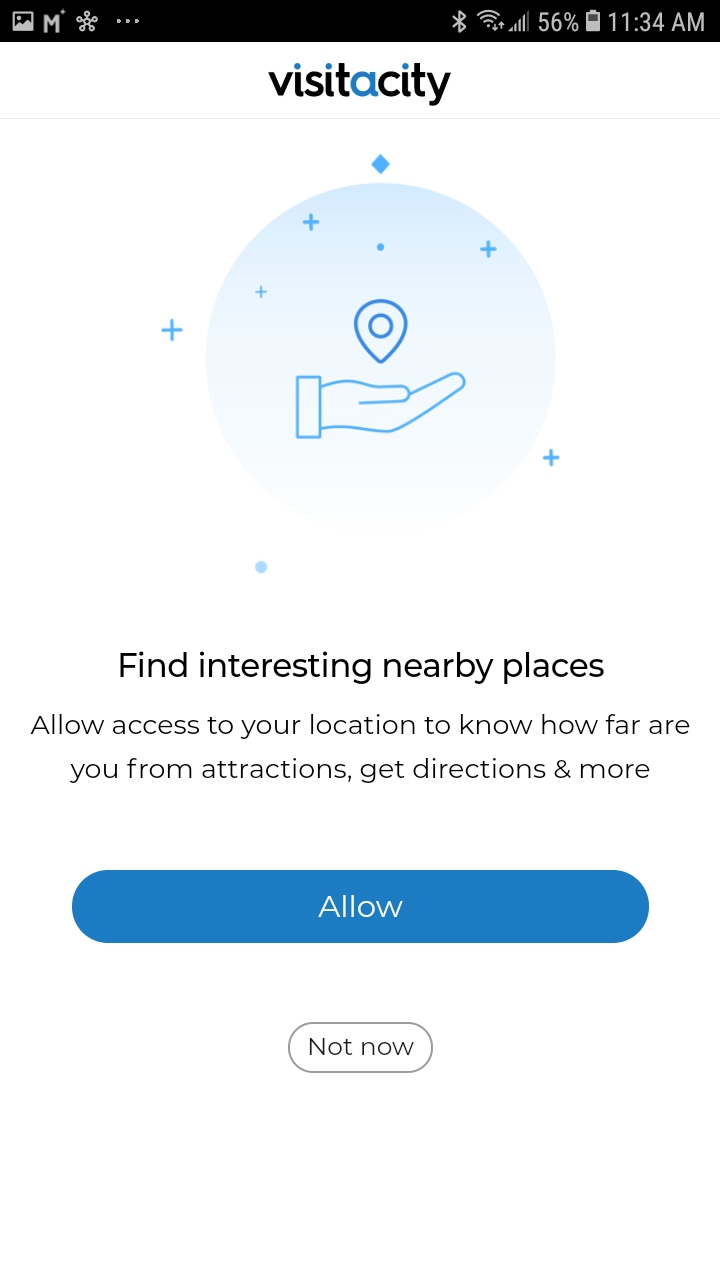Image: (160, 153, 560, 575), (268, 62, 453, 107)
Text: (31, 714, 690, 784), (120, 651, 605, 686)
TextButton: (72, 869, 650, 944), (288, 1021, 434, 1074)
UpperTaskBar: (1, 1, 720, 43)
